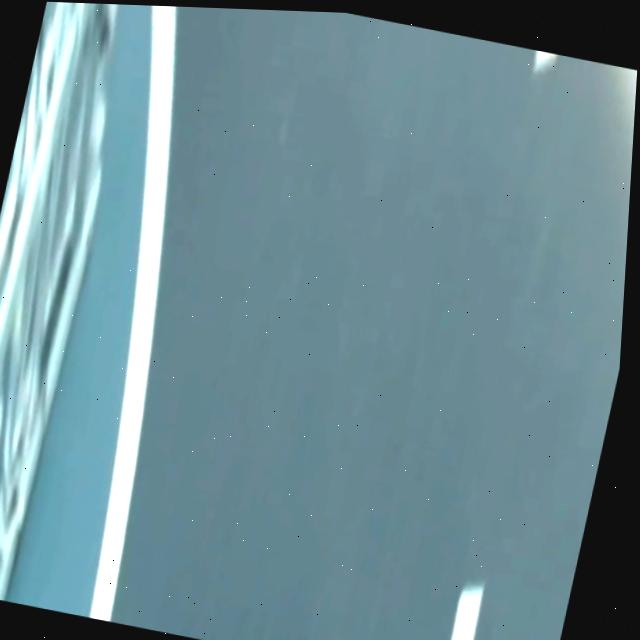center: (451, 586, 483, 640), (534, 50, 556, 72)
left: (89, 6, 176, 622)
